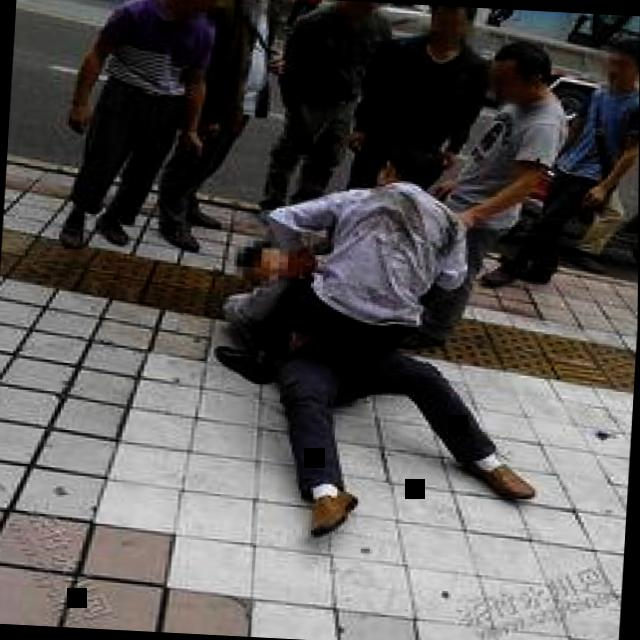Fall-Detected: (189, 160, 578, 559)
